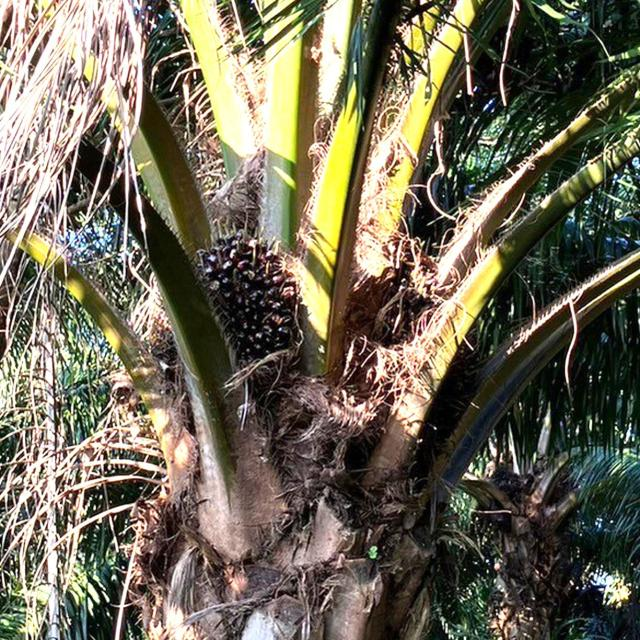almost: (185, 216, 305, 392)
